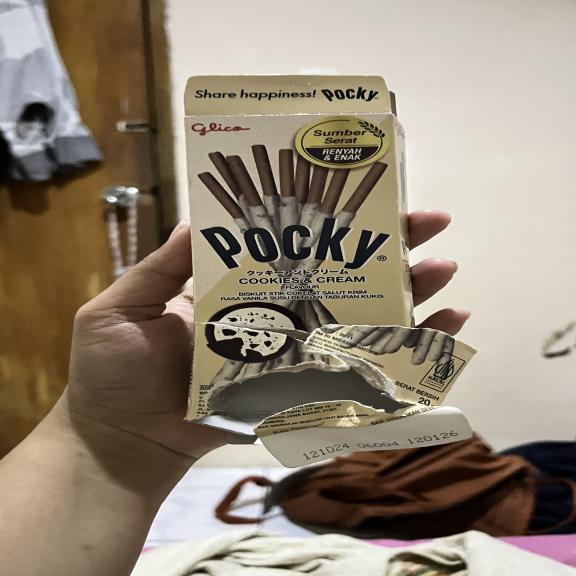Kertas: (183, 111, 411, 424)
